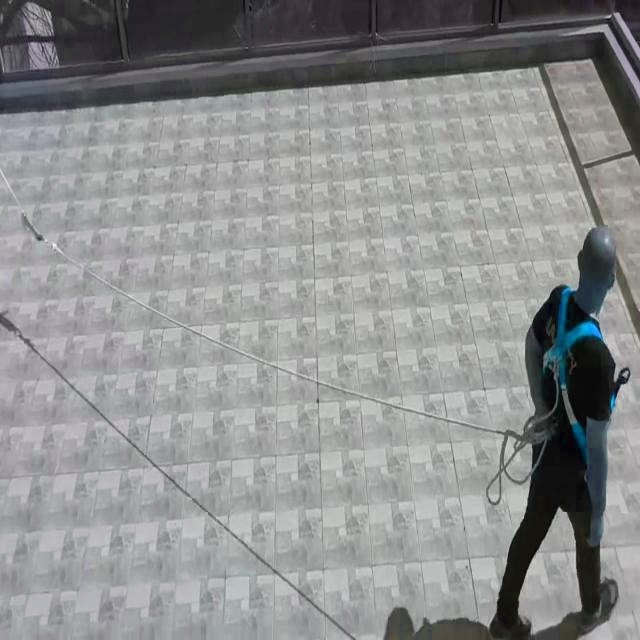safety belt: (519, 287, 637, 519)
